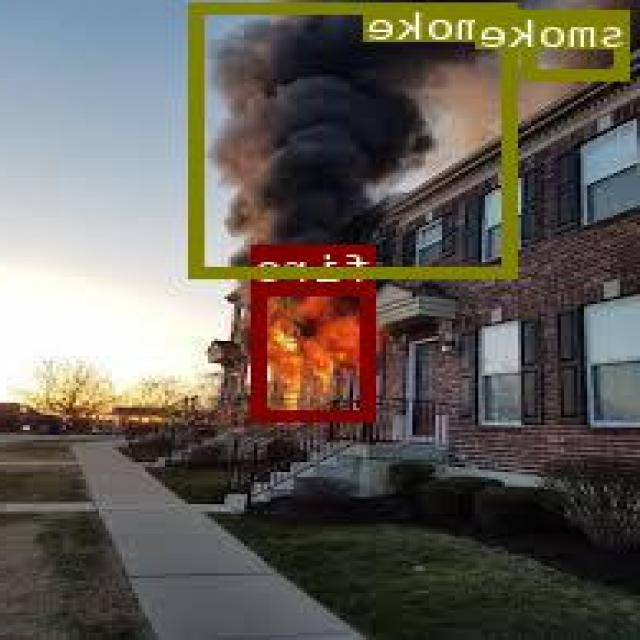fire: (256, 284, 378, 420)
smoke: (193, 0, 520, 275), (526, 9, 633, 77)
